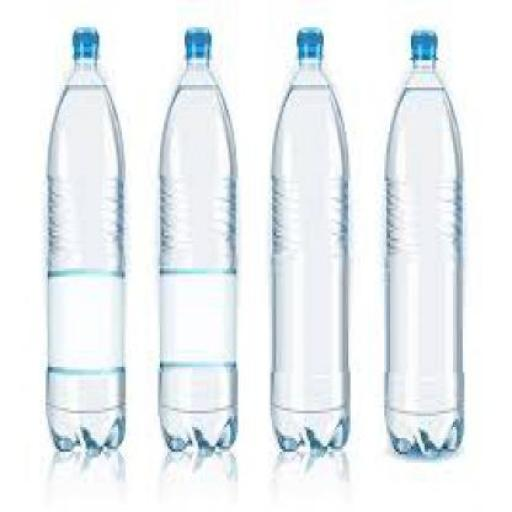plastic: (384, 24, 464, 455), (48, 27, 129, 452), (160, 24, 240, 452), (274, 25, 354, 449), (414, 24, 443, 66), (186, 24, 215, 62), (298, 24, 326, 62), (74, 24, 101, 62)
